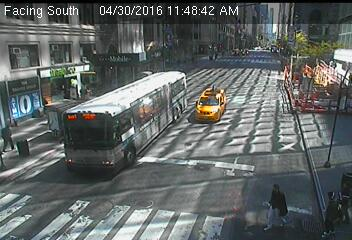neg: (74, 135, 122, 199), (271, 68, 296, 100), (150, 71, 174, 102), (147, 192, 170, 222), (306, 106, 328, 135), (181, 135, 202, 164), (238, 43, 258, 71), (210, 103, 229, 129), (9, 55, 28, 80), (116, 80, 134, 105), (10, 3, 28, 27), (271, 34, 286, 54), (178, 7, 192, 26)
pos: (258, 182, 294, 230), (75, 78, 93, 101)
